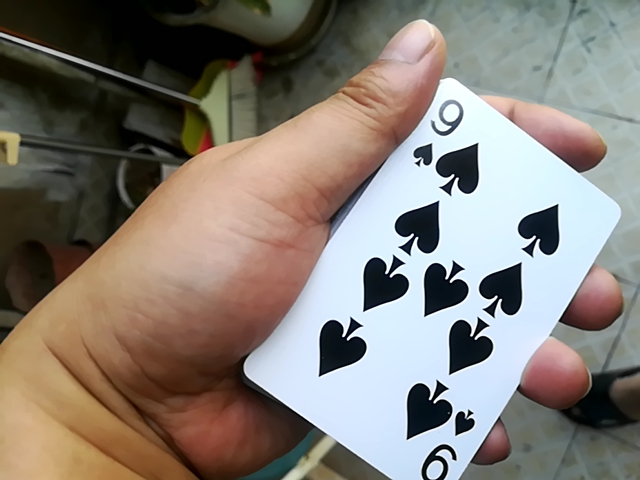ht 9: (232, 67, 611, 473)
